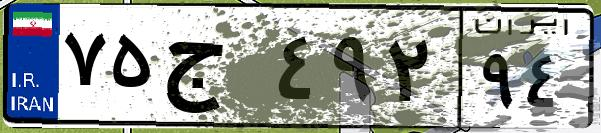2: (385, 28, 445, 110)
4: (270, 28, 330, 110), (525, 38, 570, 115)
5: (110, 28, 158, 98)
7: (57, 26, 110, 100)
9: (330, 28, 385, 110), (475, 38, 525, 113)
ج: (158, 20, 270, 120)
